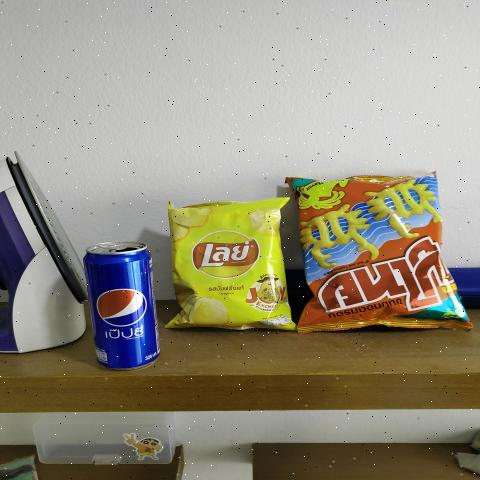pepsi_blue: (81, 239, 159, 369)
